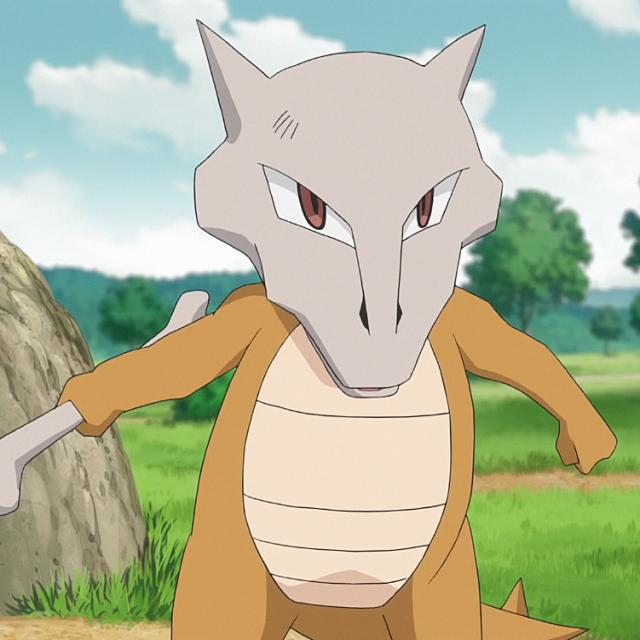Marowak: (148, 17, 527, 640)
